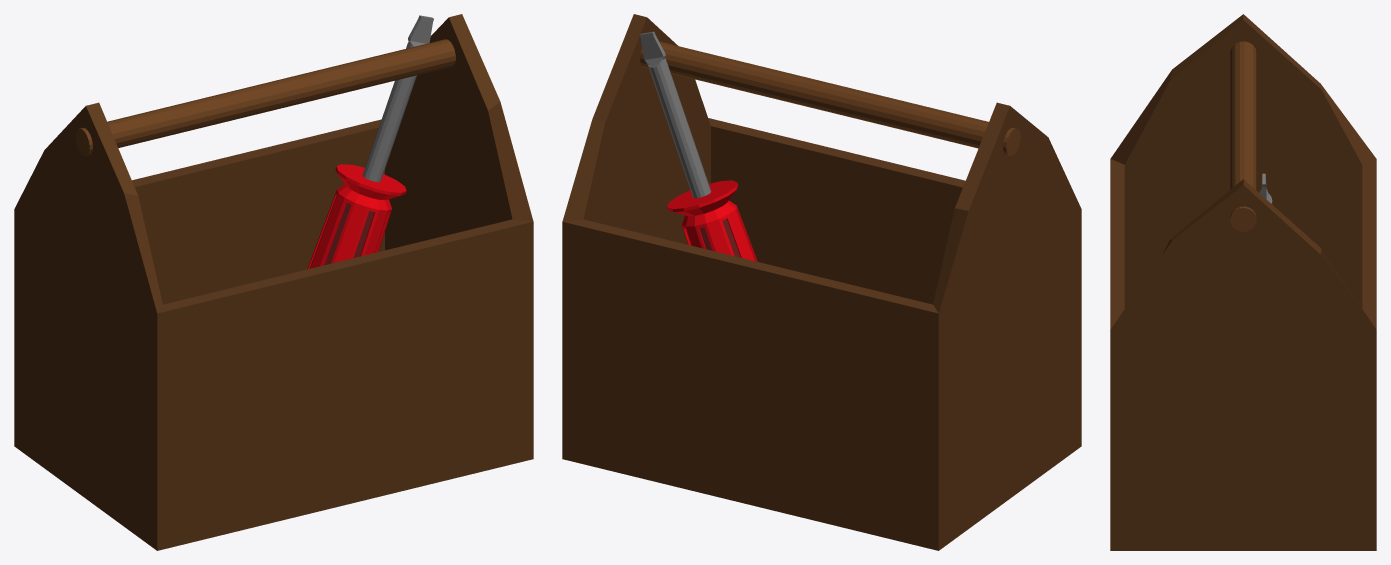
Rendered from WerkzeugkisteSchraubenzieher.glb.
3 views of the same model, side by side, from view 1: azimuth 30°, elevation 25°; view 2: azimuth 150°, elevation 25°; view 3: azimuth 270°, elevation 25° (orthographic). The views are drawn at different scales.
Parts seen in each view (by area): view 1: Werkzeugkiste, Schraubendreher; view 2: Werkzeugkiste, Schraubendreher; view 3: Werkzeugkiste.
Part boxes in pixels (x1,y1,x2,y2): Werkzeugkiste: (14,14,533,550); Schraubendreher: (307,15,433,269); Werkzeugkiste: (562,14,1081,550); Schraubendreher: (640,31,757,261); Werkzeugkiste: (1110,14,1376,550).
Size of the model in its own units: 3.1 by 3.04 by 2.
